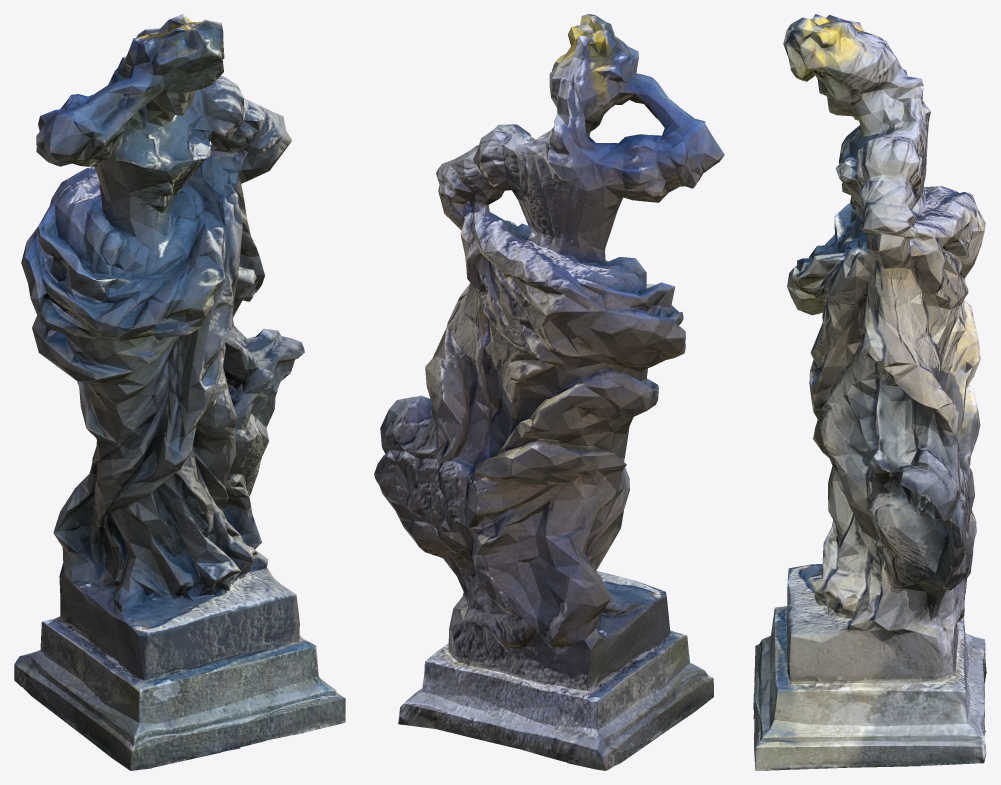
File: pycha.glb
3 renders of one model, left to right at view 1: azimuth 30°, elevation 25°; view 2: azimuth 150°, elevation 25°; view 3: azimuth 270°, elevation 25°, orthographic. The views are drawn at different scales.
Parts seen in each view (by area): view 1: Pycha; view 2: Pycha; view 3: Pycha.
Part boxes in pixels (left/top/right/bottom): Pycha: left=14, top=14, right=345, bottom=770; Pycha: left=374, top=14, right=724, bottom=770; Pycha: left=753, top=14, right=986, bottom=770.
Bounding box in the file's own units: 1.23 × 2.76 × 0.8355.
1 material, 1 textured.
